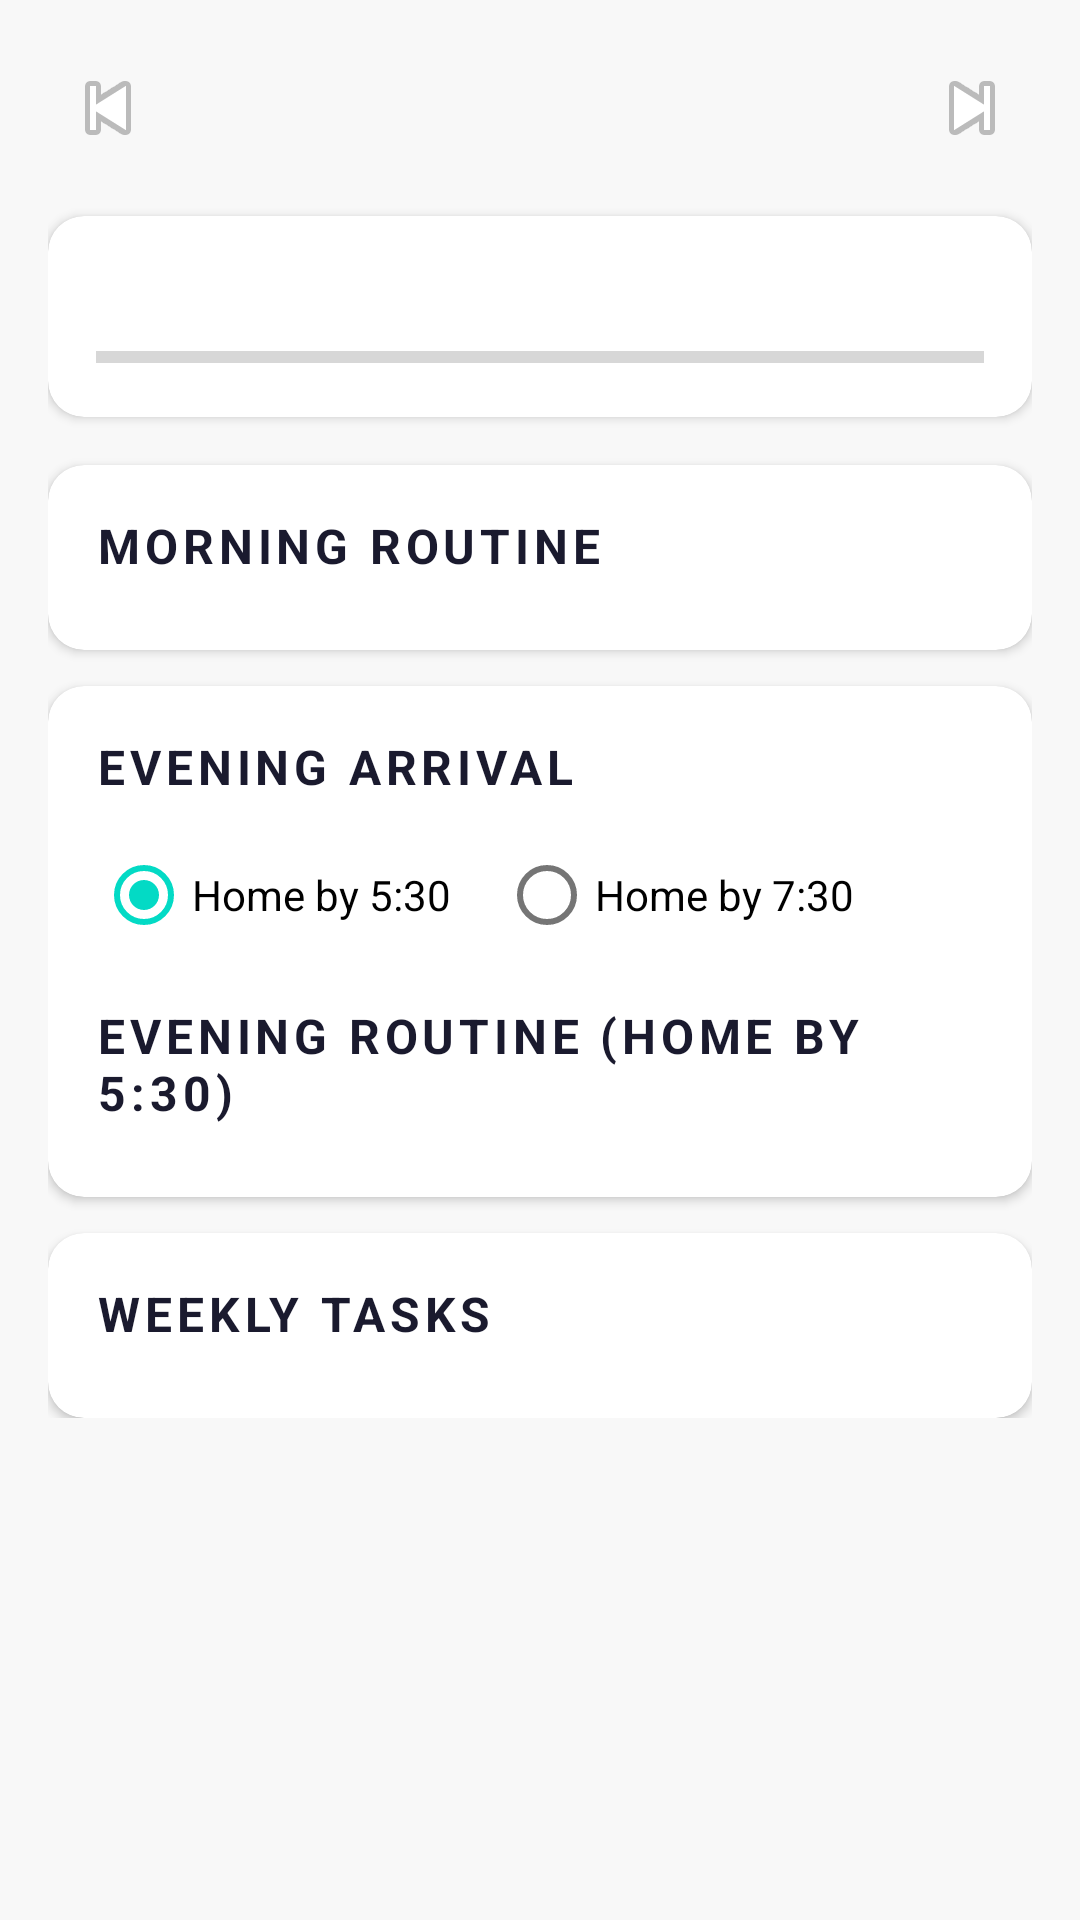

Icons on this 1080px x 1920px Android screen, each with the point to tap as (x=x, y=y):
Next day: (x=972, y=108)
Previous day: (x=108, y=108)
